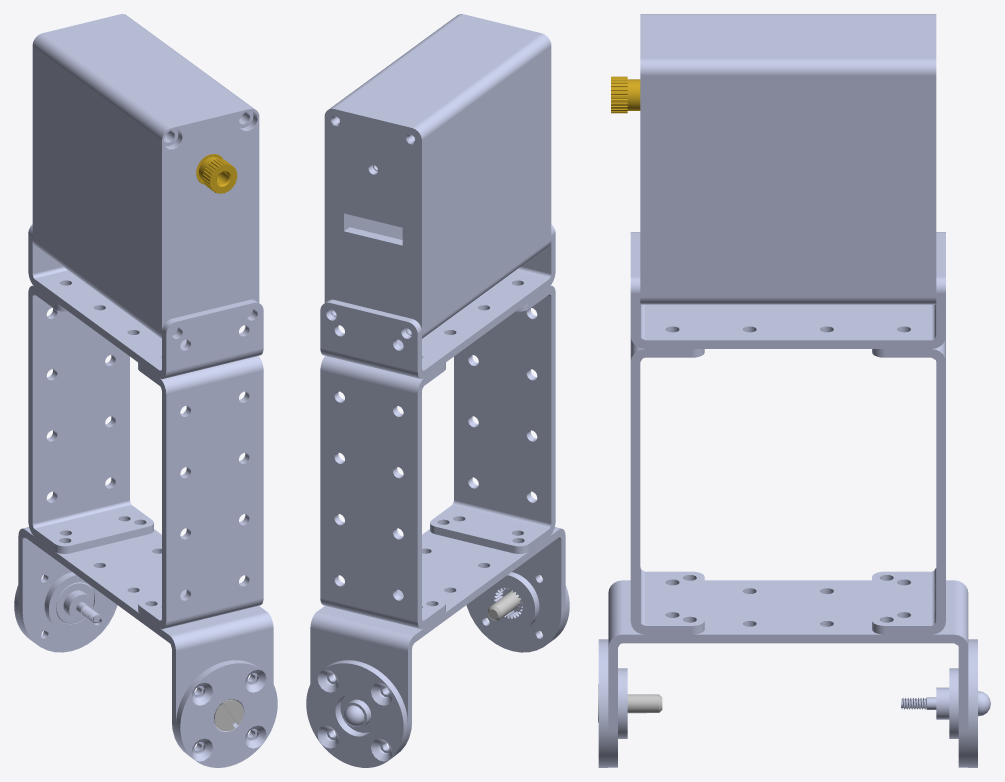
File: first_arm.obj
3 renders of one model, left to right at view 1: azimuth 30°, elevation 25°; view 2: azimuth 150°, elevation 25°; view 3: azimuth 270°, elevation 25°, orthographic. The views are drawn at different scales.
Visible parts, largest first — view 1: mesh 3 MotorBox-1-solid1, object 2, mesh 4 GearBox-1-solid1, object 5; view 2: mesh 3 MotorBox-1-solid1, object 2, object 5; view 3: mesh 3 MotorBox-1-solid1, object 2, mesh 4 GearBox-1-solid1, object 5.
Part boxes in pixels (x1,y1,x2,y2): mesh 3 MotorBox-1-solid1: [14, 84, 277, 767]; object 2: [32, 14, 220, 314]; mesh 4 GearBox-1-solid1: [196, 154, 237, 193]; object 5: [214, 699, 243, 731]; mesh 3 MotorBox-1-solid1: [306, 14, 569, 767]; object 2: [324, 38, 517, 338]; object 5: [487, 590, 522, 620]; mesh 3 MotorBox-1-solid1: [598, 14, 990, 767]; object 2: [717, 14, 936, 304]; mesh 4 GearBox-1-solid1: [611, 76, 640, 113]; object 5: [598, 684, 662, 722].
Size of the model in its own units: 0.02 by 0.1244 by 0.0611.
